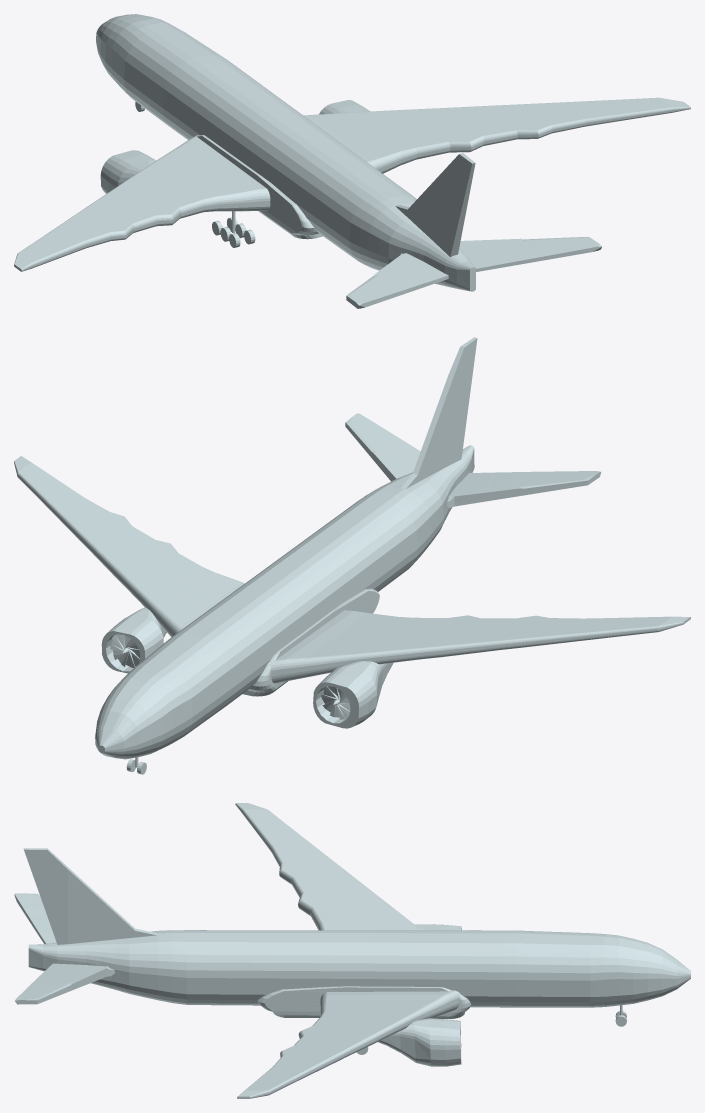
The picture shows the model from 3 angles, top to bottom: view 1: azimuth 30°, elevation 25°; view 2: azimuth 150°, elevation 25°; view 3: azimuth 270°, elevation 25°; orthographic projection. The views are drawn at different scales.
Visible parts, largest first — view 1: Aircraft visual hull, Landing gear; view 2: Aircraft visual hull, Rotor 1790285484340-ocfars7j9ro, Rotor 1790285484340-ocfars7j9ro-mirror; view 3: Aircraft visual hull.
Boxes of the visible parts, x1,y1,x2,y2 form: Aircraft visual hull: [14, 14, 690, 308]; Landing gear: [135, 102, 255, 247]; Aircraft visual hull: [14, 337, 690, 759]; Rotor 1790285484340-ocfars7j9ro: [110, 634, 140, 667]; Rotor 1790285484340-ocfars7j9ro-mirror: [321, 686, 350, 719]; Aircraft visual hull: [14, 803, 690, 1098].
Bounding box in the file's own units: 65.32 × 18 × 63.93.
